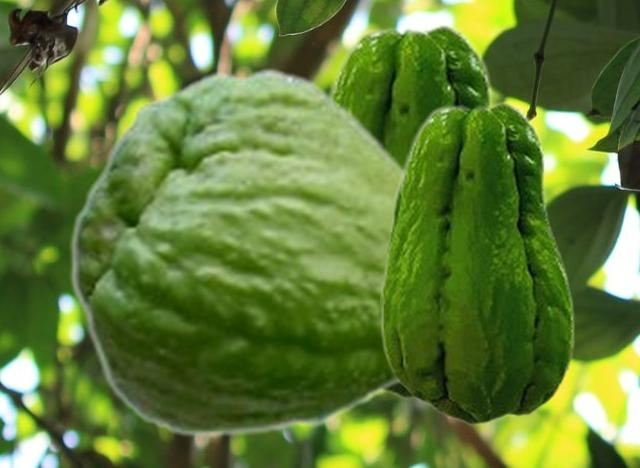sayote: (69, 66, 403, 438), (325, 22, 495, 399), (380, 100, 574, 425)
